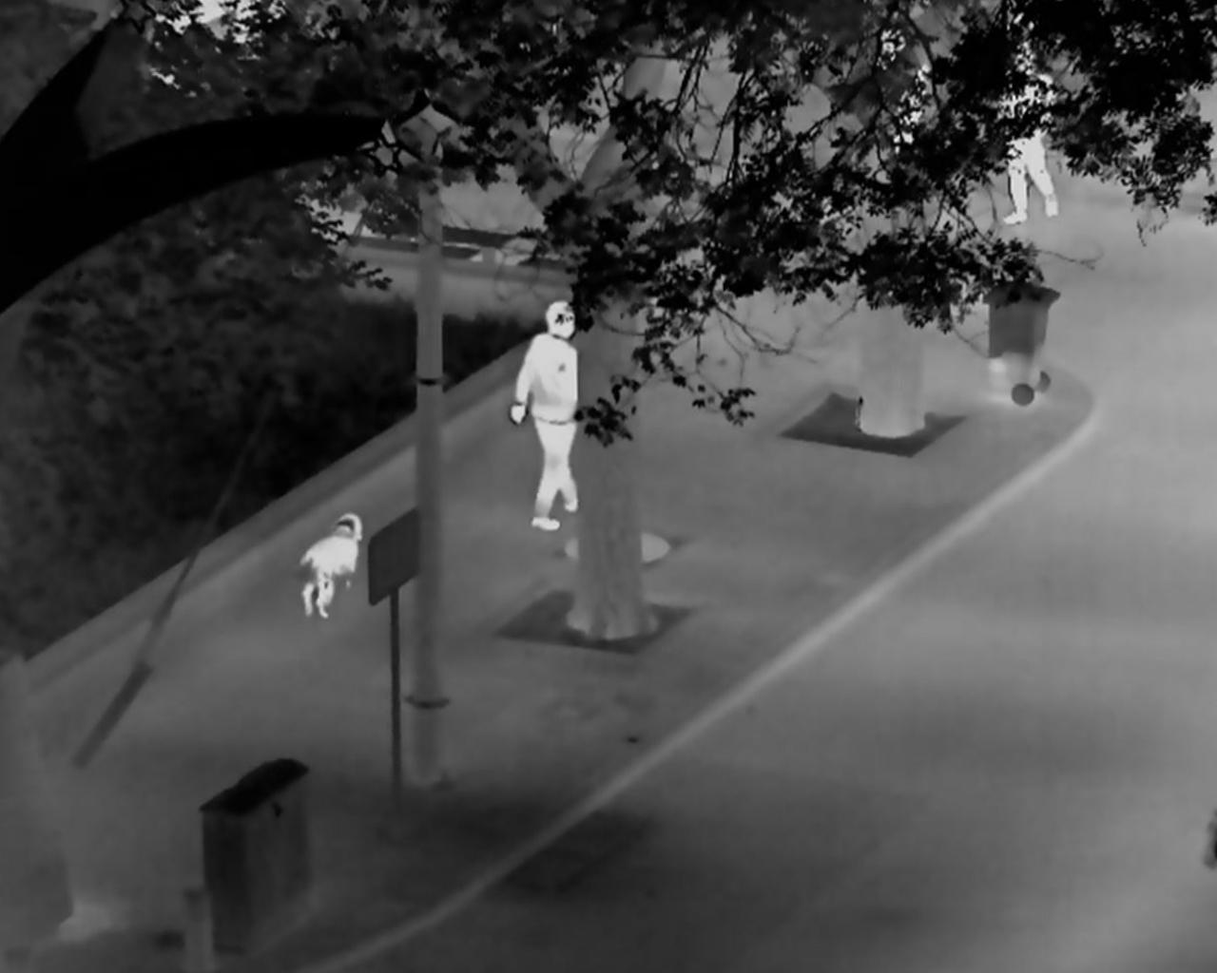person: (508, 298, 578, 530), (995, 40, 1060, 224), (872, 26, 928, 166)
